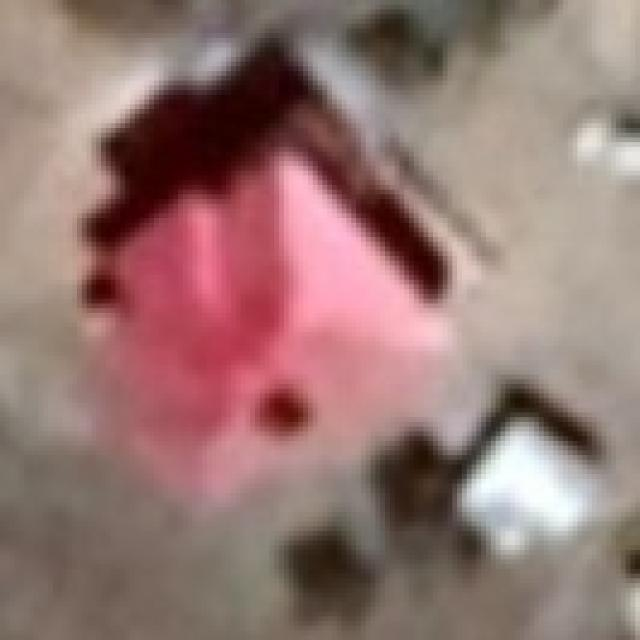Batiment: (91, 105, 449, 497)
